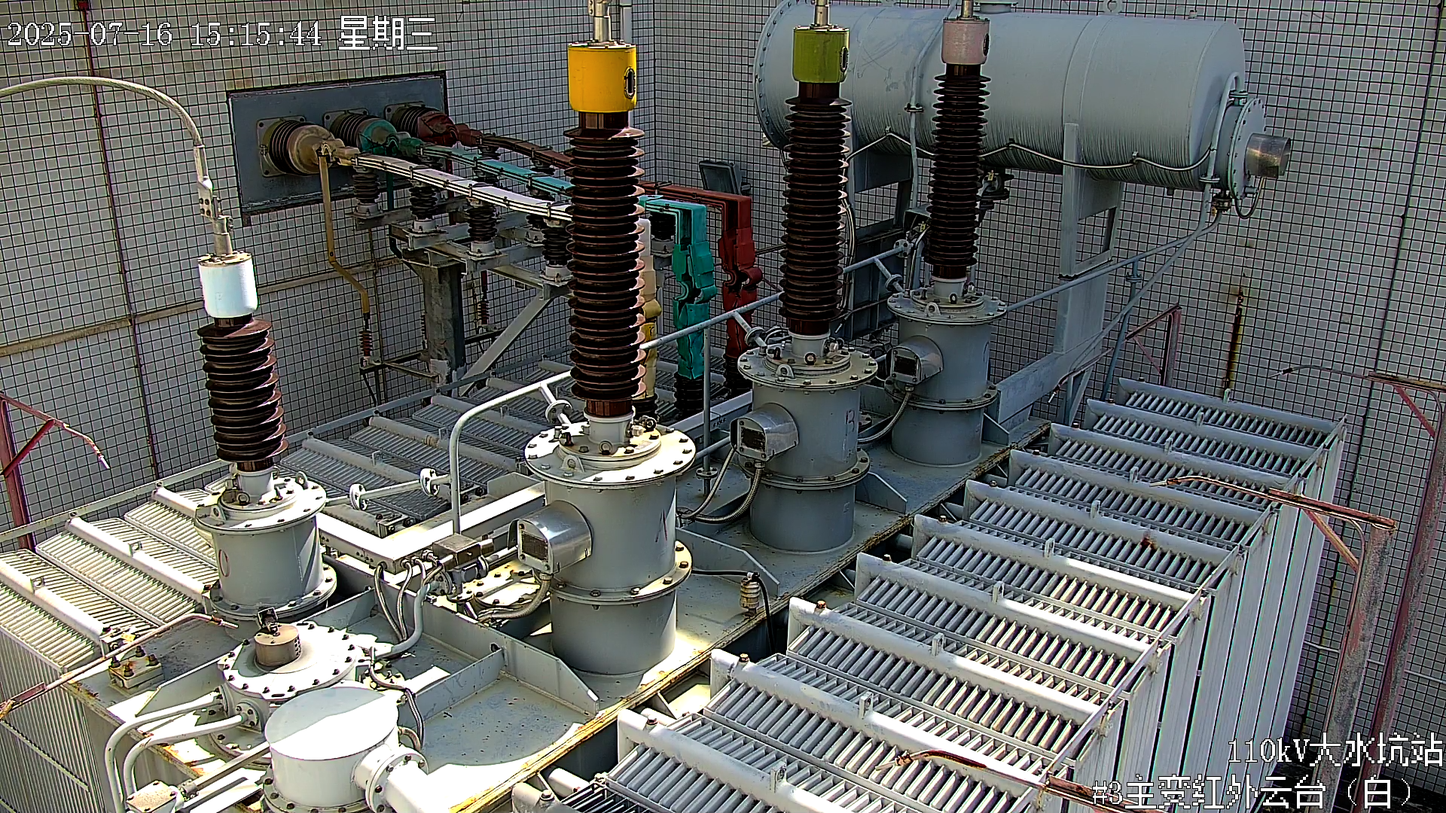MainTR: (0, 1, 1350, 813)
